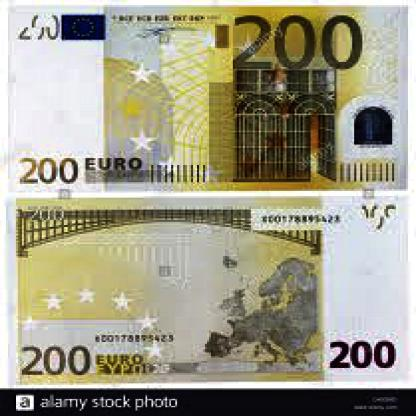euro_banknote: (8, 6, 410, 193), (16, 198, 408, 386)
